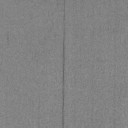surface scratch: (0, 62, 100, 65)
